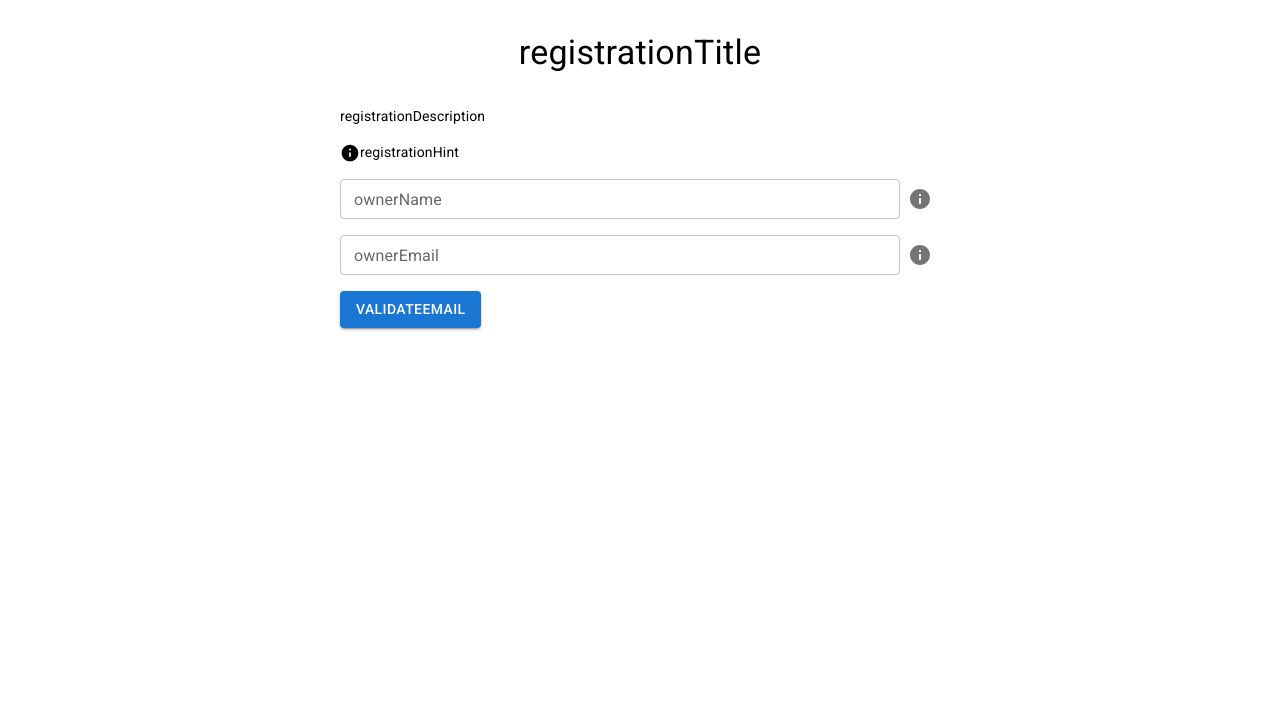
Test: RegisterForm › shows error if owner name or email is missing when sending validation email
This screenshot has width=1280, height=720.
Click the button "validateEmail" at x=411, y=309, box left=340, top=291, right=482, bottom=328
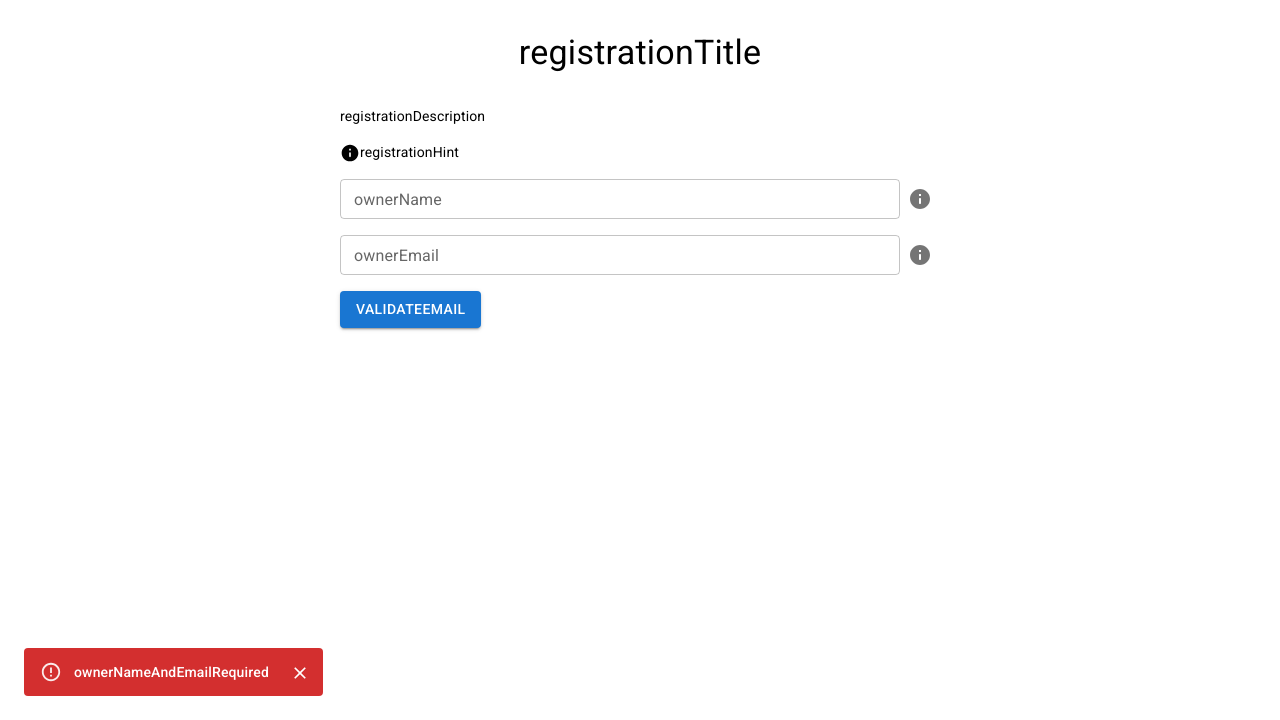
Expected: the text "ownerNameAndEmailRequired" is shown, left=74, top=664, right=269, bottom=680
